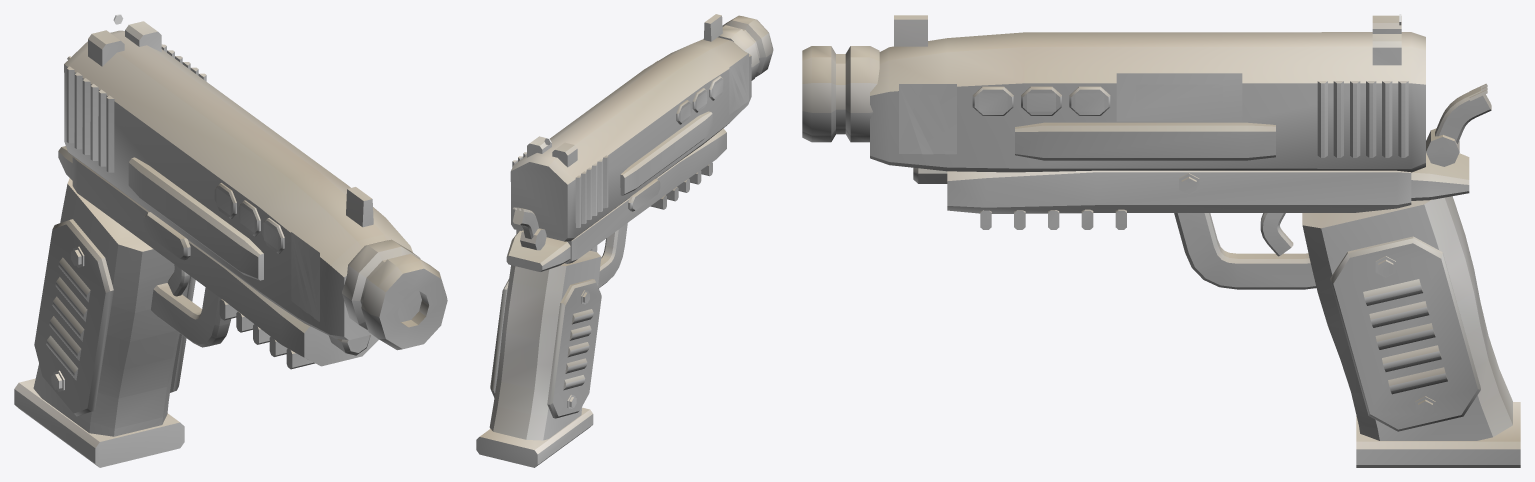
File: hand-cannon-l-left.glb
3 views of the same model, side by side, from view 1: azimuth 30°, elevation 25°; view 2: azimuth 150°, elevation 25°; view 3: azimuth 270°, elevation 25° (orthographic). The views are drawn at different scales.
Parts seen in each view (by area): view 1: Slide, Body, Barrel; view 2: Body, Slide, Barrel, Hammer; view 3: Slide, Body, Barrel, Hammer.
Boxes of the visible parts, x1,y1,x2,y2 form: Slide: (64, 14, 412, 340); Body: (14, 146, 378, 467); Barrel: (342, 239, 447, 350); Body: (476, 128, 726, 467); Slide: (510, 14, 751, 241); Barrel: (718, 15, 773, 80); Hammer: (513, 207, 546, 250); Slide: (870, 14, 1425, 172); Body: (913, 153, 1520, 467); Barrel: (802, 46, 879, 142); Hammer: (1426, 83, 1491, 166).
Size of the model in its own units: 0.2617 by 0.9908 by 1.49.
